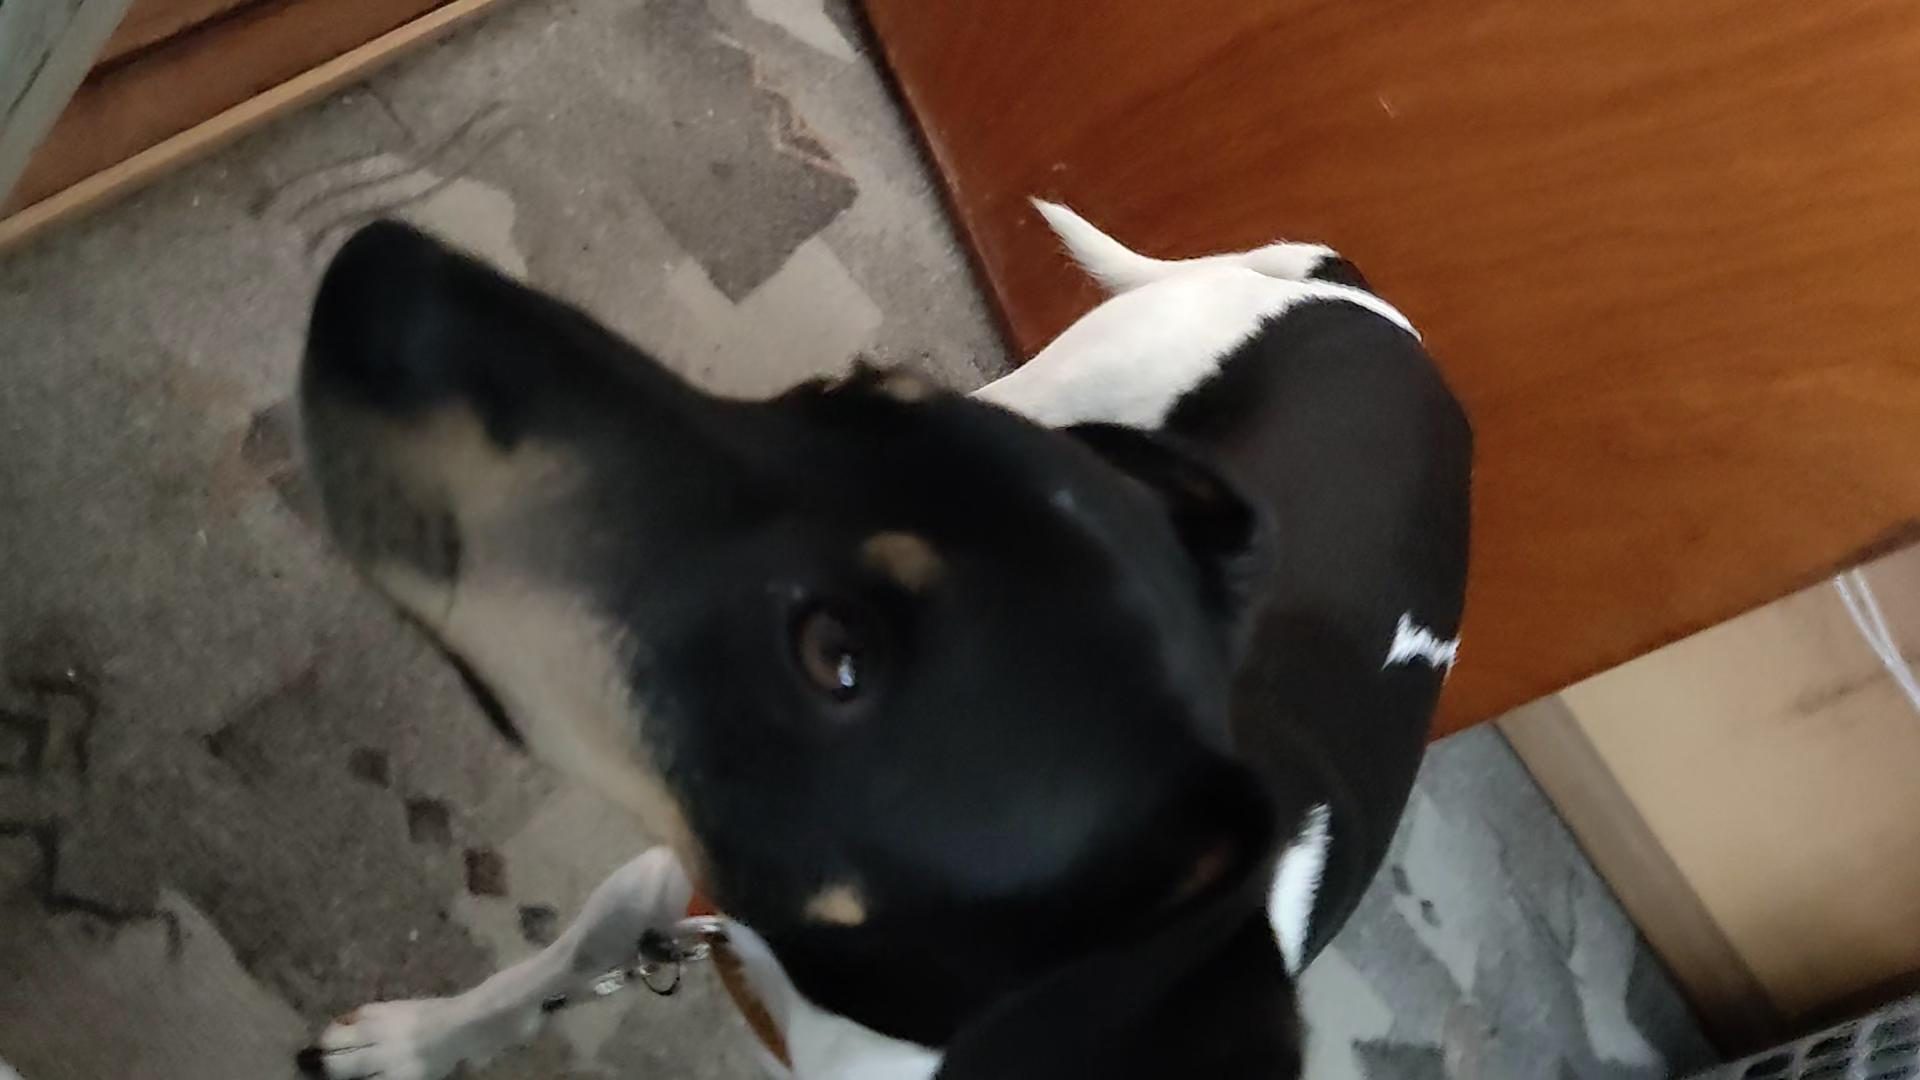Dog: (284, 154, 1493, 1079)
